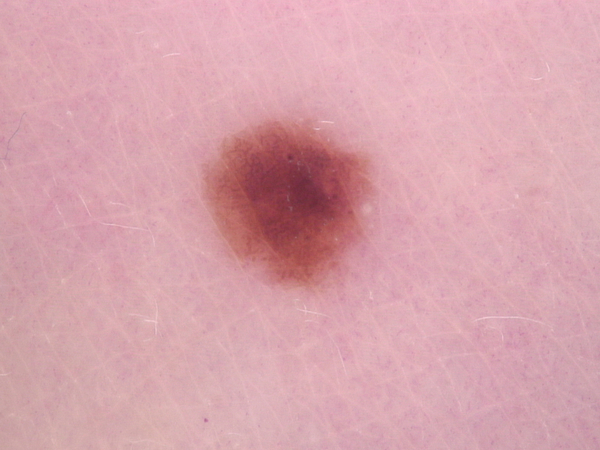Detected Lesion: (195, 117, 382, 291)
